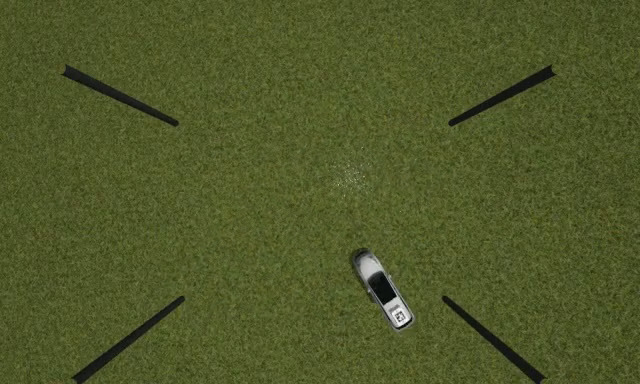Car: (352, 251, 416, 332)
Landing Pad: (391, 308, 410, 328)
